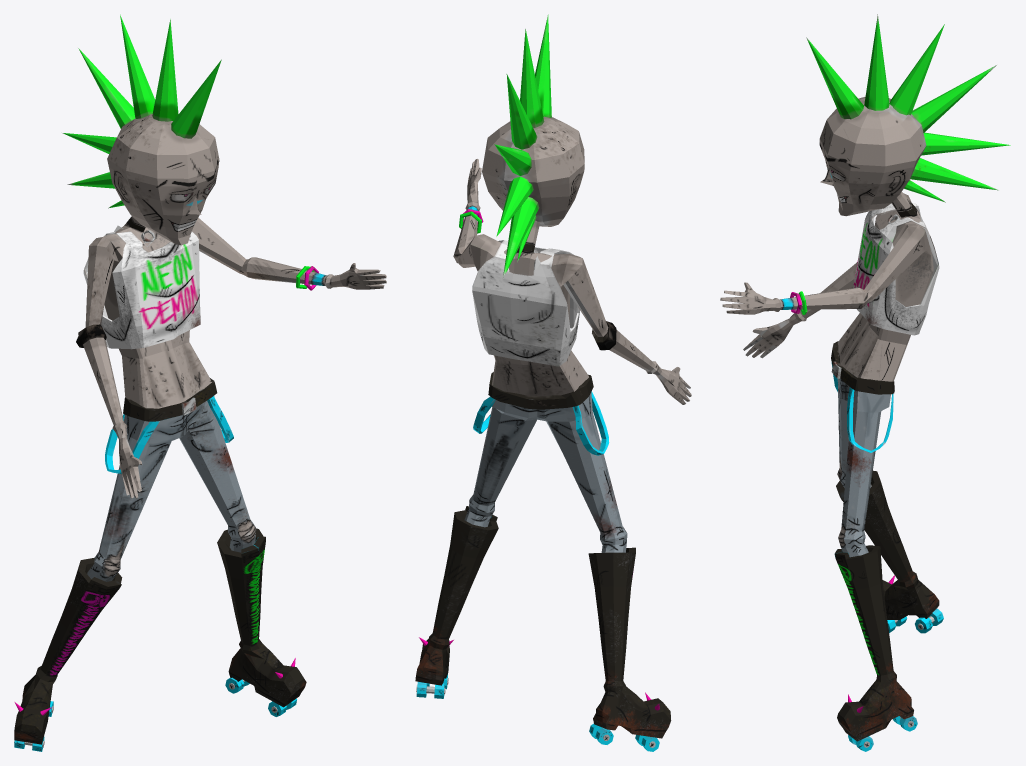
The model's file is punkAnimation_000131.obj.
3 renders of one model, left to right at view 1: azimuth 30°, elevation 25°; view 2: azimuth 150°, elevation 25°; view 3: azimuth 270°, elevation 25°, orthographic. The views are drawn at different scales.
Parts seen in each view (by area): view 1: Cube.004_Cube.003; view 2: Cube.004_Cube.003; view 3: Cube.004_Cube.003.
Part boxes in pixels (x1=…): Cube.004_Cube.003: x1=14, y1=14, x2=386, y2=751; Cube.004_Cube.003: x1=415, y1=14, x2=691, y2=751; Cube.004_Cube.003: x1=720, y1=14, x2=1010, y2=751.
Size of the model in its own units: 3.19 by 7.5 by 2.89.
